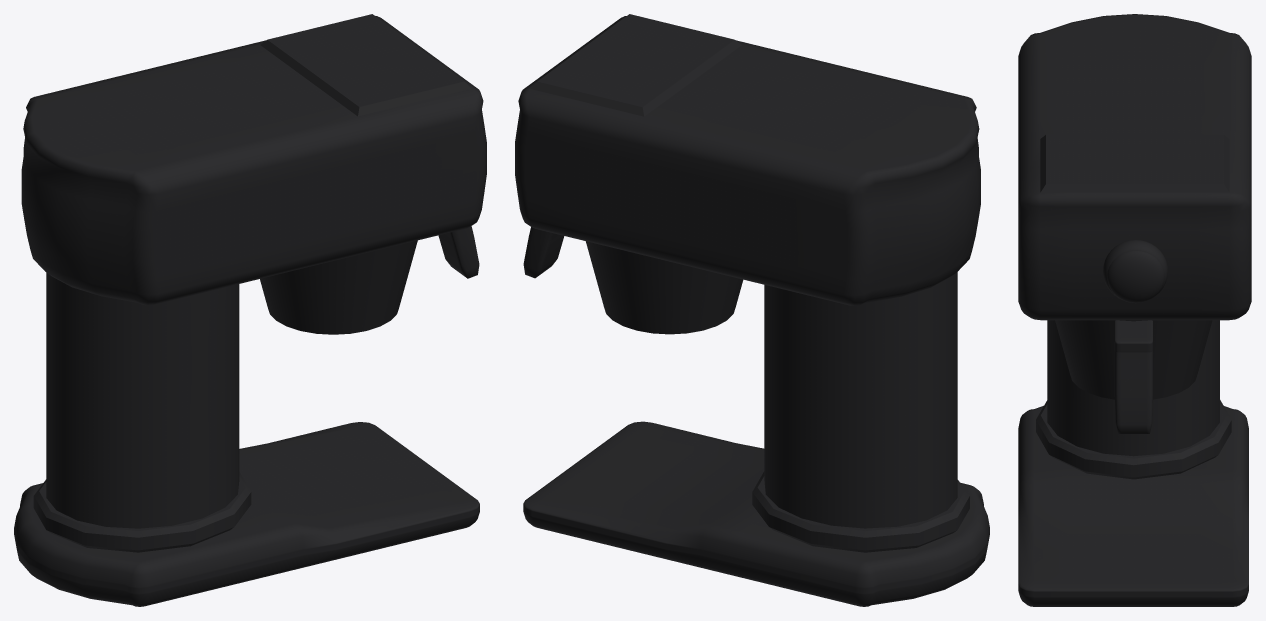
The model's file is Cafetera.obj.
The picture shows the model from 3 angles, left to right: view 1: azimuth 30°, elevation 25°; view 2: azimuth 150°, elevation 25°; view 3: azimuth 270°, elevation 25°; orthographic projection. The views are drawn at different scales.
Parts seen in each view (by area): view 1: polySurface46; view 2: polySurface46; view 3: polySurface46.
Boxes of the visible parts, x1,y1,x2,y2 form: polySurface46: (14, 14, 486, 606); polySurface46: (515, 14, 989, 606); polySurface46: (1018, 14, 1251, 606).
Size of the model in its own units: 0.8781 by 0.864 by 0.4149.
